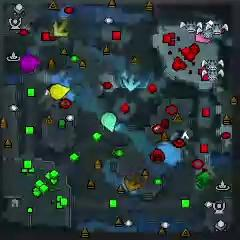p2: (101, 112, 118, 131)
p3: (20, 55, 40, 71)
p4: (50, 84, 72, 99)
x1: (193, 30, 212, 44)
x2: (52, 19, 70, 37)
x3: (122, 74, 140, 93)
x4: (195, 170, 214, 187)
x5: (122, 176, 144, 192)
